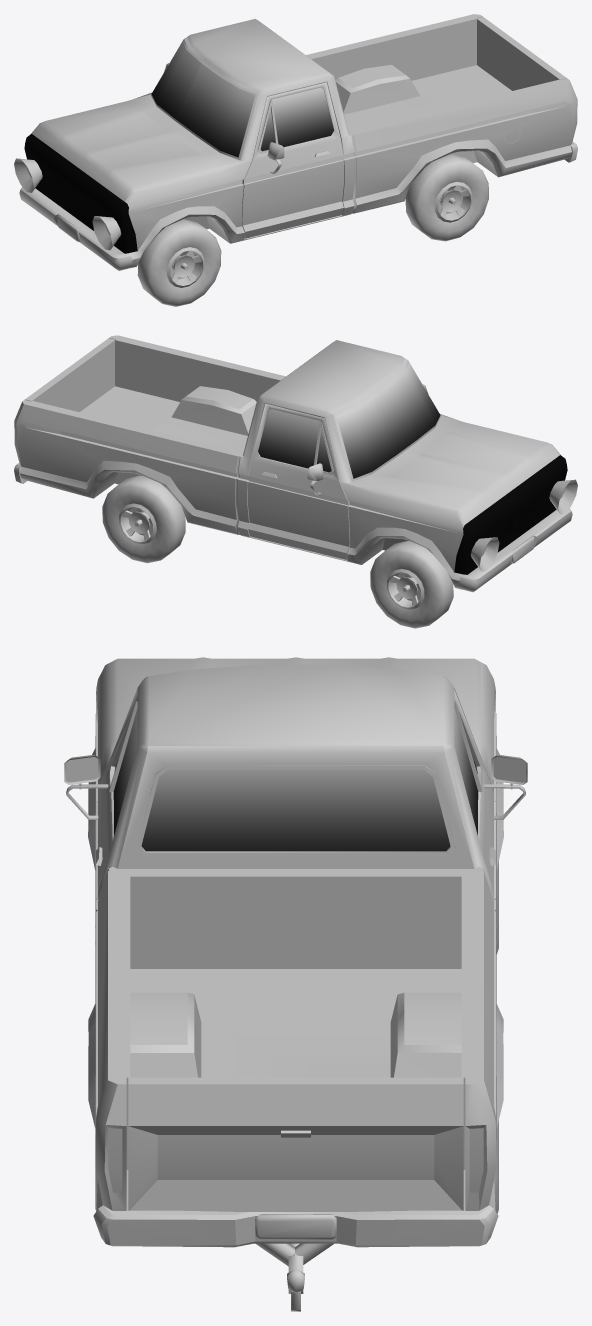
Rendered from TFP_Utility_Pick_Up_01A.fbx.
3 renders of one model, top to bottom at view 1: azimuth 30°, elevation 25°; view 2: azimuth 150°, elevation 25°; view 3: azimuth 270°, elevation 25°, orthographic. The views are drawn at different scales.
Visible parts, largest first — view 1: TFP_Utility_Pick_Up_01A_Body_LOD0, TFP_Utility_Pick_Up_01A_Door_L_LOD0, TFP_Utility_Pick_Up_01A_Wheel_R.L_LOD0, TFP_Utility_Pick_Up_01A_Wheel_F.L_LOD0, TFP_Utility_Pick_Up_01A_Tailgate_LOD0, TFP_Utility_Pick_Up_01A_Lights_LOD0; view 2: TFP_Utility_Pick_Up_01A_Body_LOD0, TFP_Utility_Pick_Up_01A_Door_R_LOD0, TFP_Utility_Pick_Up_01A_Wheel_R.R_LOD0, TFP_Utility_Pick_Up_01A_Wheel_F.R_LOD0, TFP_Utility_Pick_Up_01A_Tailgate_LOD0, TFP_Utility_Pick_Up_01A_Lights_LOD0; view 3: TFP_Utility_Pick_Up_01A_Body_LOD0, TFP_Utility_Pick_Up_01A_Tailgate_LOD0, TFP_Utility_Pick_Up_01A_Door_L_LOD0, TFP_Utility_Pick_Up_01A_Door_R_LOD0.
Part boxes in pixels (box(x1,y1,x2,y2)): TFP_Utility_Pick_Up_01A_Body_LOD0: box(19, 14, 577, 270); TFP_Utility_Pick_Up_01A_Door_L_LOD0: box(242, 82, 343, 238); TFP_Utility_Pick_Up_01A_Wheel_R.L_LOD0: box(405, 154, 488, 241); TFP_Utility_Pick_Up_01A_Wheel_F.L_LOD0: box(137, 219, 221, 306); TFP_Utility_Pick_Up_01A_Tailgate_LOD0: box(476, 17, 566, 90); TFP_Utility_Pick_Up_01A_Lights_LOD0: box(14, 158, 121, 250); TFP_Utility_Pick_Up_01A_Body_LOD0: box(14, 335, 572, 592); TFP_Utility_Pick_Up_01A_Door_R_LOD0: box(248, 403, 349, 559); TFP_Utility_Pick_Up_01A_Wheel_R.R_LOD0: box(102, 475, 185, 563); TFP_Utility_Pick_Up_01A_Wheel_F.R_LOD0: box(370, 541, 453, 628); TFP_Utility_Pick_Up_01A_Tailgate_LOD0: box(25, 338, 115, 412); TFP_Utility_Pick_Up_01A_Lights_LOD0: box(471, 479, 577, 571); TFP_Utility_Pick_Up_01A_Body_LOD0: box(88, 657, 503, 1311); TFP_Utility_Pick_Up_01A_Tailgate_LOD0: box(128, 1077, 463, 1211); TFP_Utility_Pick_Up_01A_Door_L_LOD0: box(64, 690, 137, 930); TFP_Utility_Pick_Up_01A_Door_R_LOD0: box(454, 690, 527, 930).
Size of what is drawn, in the model's own units: 6.02 by 2.22 by 2.46.
